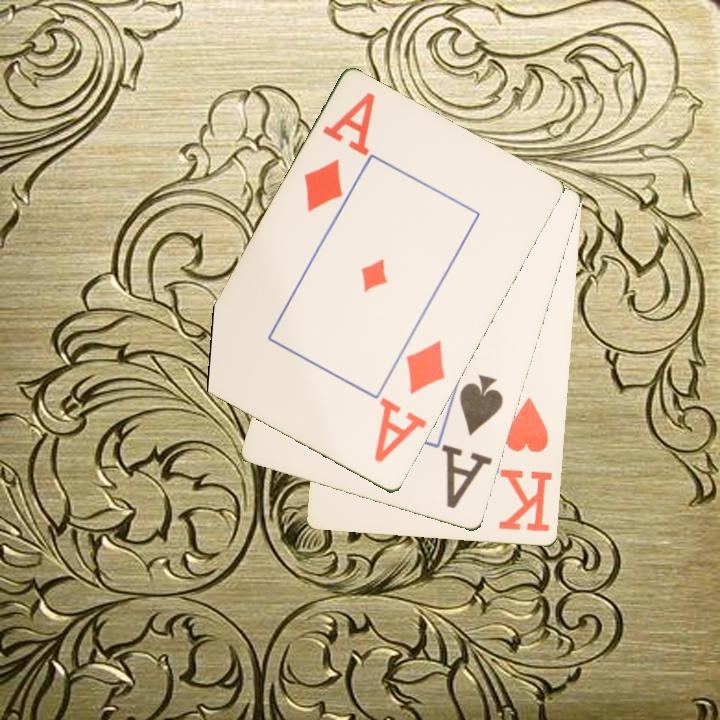Ad: (370, 336, 449, 466), (300, 89, 379, 216)
As: (449, 371, 507, 499)
Kh: (496, 394, 556, 535)
